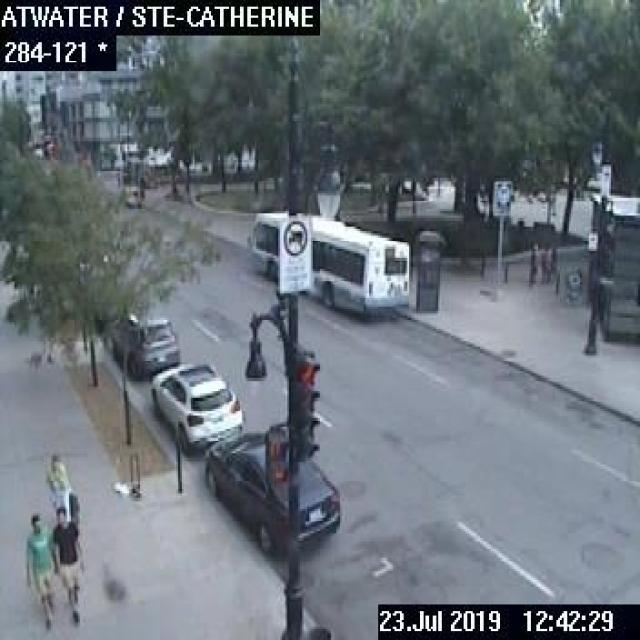bus: (250, 212, 409, 314)
pedestrian: (53, 505, 84, 629), (20, 513, 52, 628), (45, 453, 79, 524), (526, 238, 539, 284), (539, 244, 549, 282), (549, 245, 557, 282)
vehicle: (203, 430, 339, 552), (149, 361, 242, 451), (108, 311, 178, 373)
